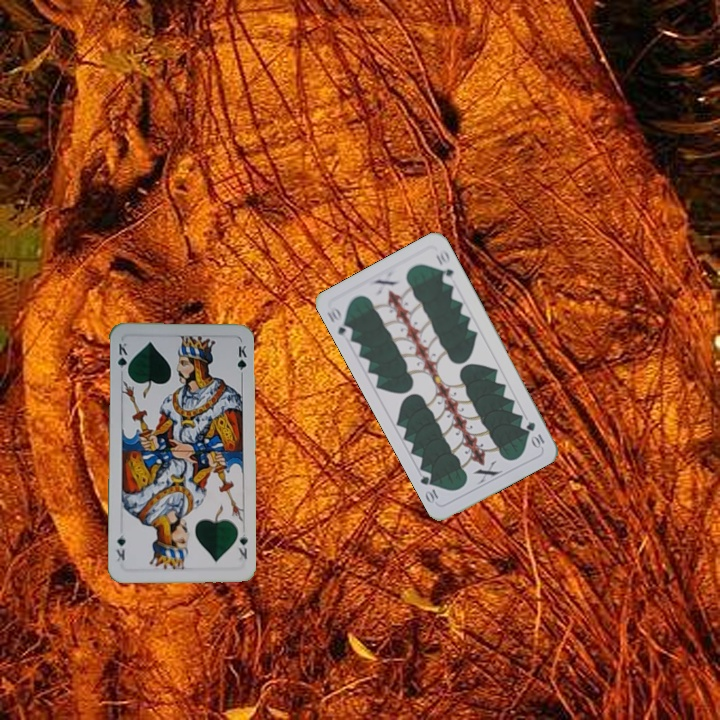G10: (323, 304, 355, 339), (522, 418, 547, 451)
GK: (113, 339, 130, 378), (234, 526, 250, 562)
